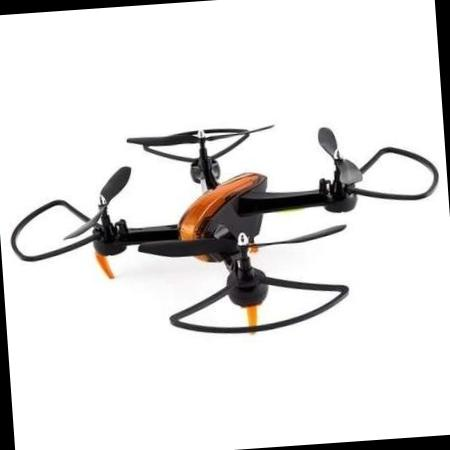drone: (0, 98, 442, 356)
